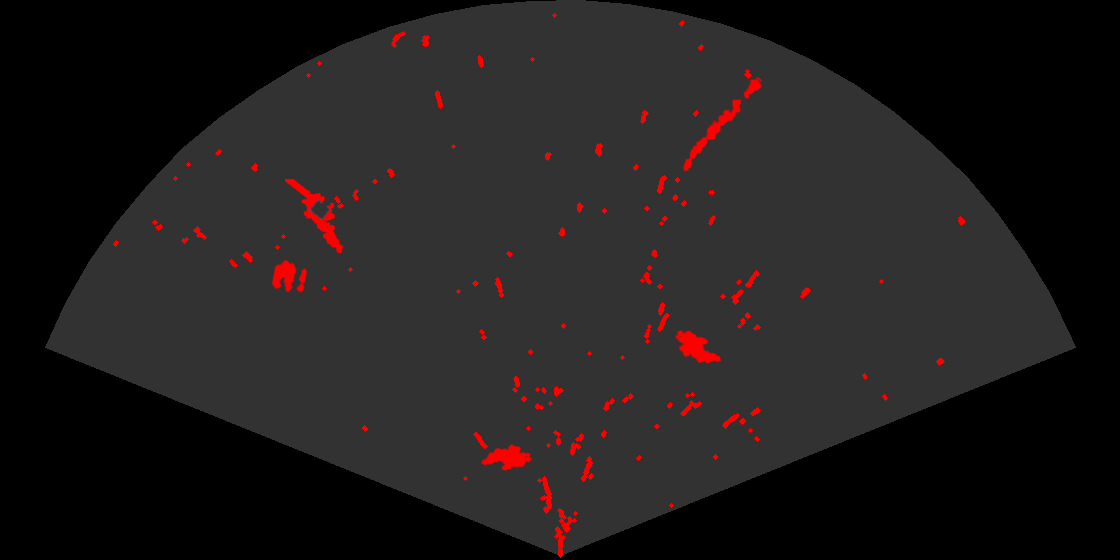AUV: (673, 329, 723, 366), (479, 443, 534, 472)
ball: (270, 258, 309, 294)
chain: (681, 77, 764, 173)
frogman: (285, 179, 345, 255)
